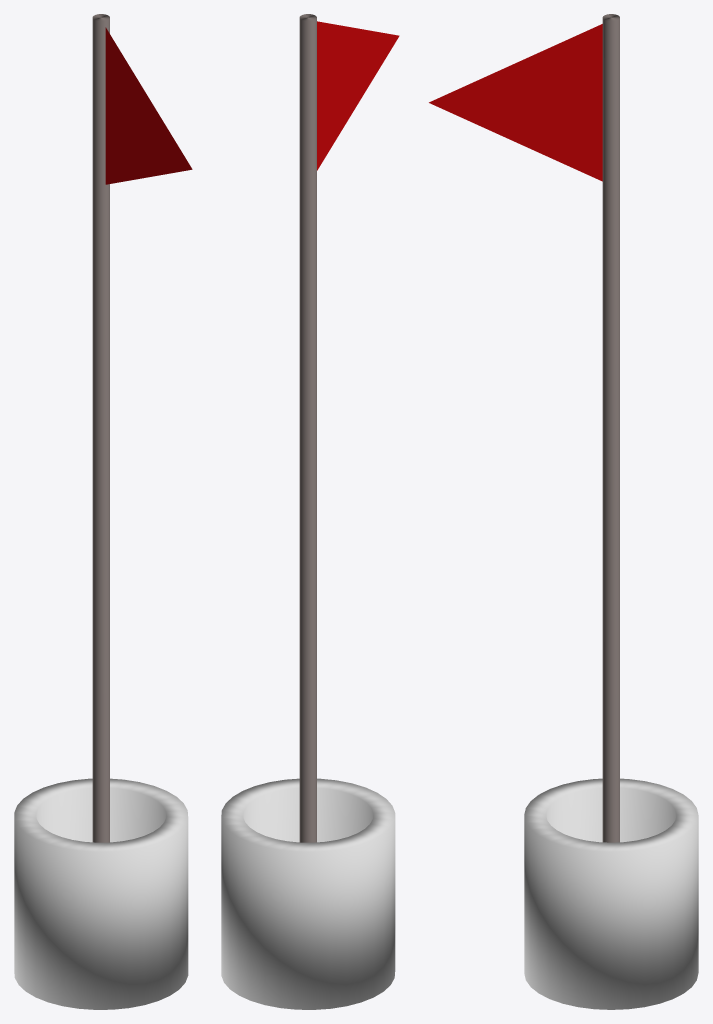
The model's file is golf hole.glb.
The picture shows the model from 3 angles, left to right: view 1: azimuth 30°, elevation 25°; view 2: azimuth 150°, elevation 25°; view 3: azimuth 270°, elevation 25°; orthographic projection.
Parts seen in each view (by area): view 1: Hole, Pole, Flag; view 2: Hole, Pole, Flag; view 3: Hole, Pole, Flag.
Boxes of the visible parts, bbox=[...] form: Hole: bbox=[14, 778, 188, 1009]; Pole: bbox=[92, 14, 109, 842]; Flag: bbox=[105, 27, 192, 184]; Hole: bbox=[221, 778, 395, 1009]; Pole: bbox=[299, 14, 316, 842]; Flag: bbox=[317, 21, 399, 170]; Hole: bbox=[524, 778, 698, 1009]; Pole: bbox=[602, 14, 619, 842]; Flag: bbox=[429, 24, 602, 181].
Size of the model in its own units: 2 by 12.09 by 3.1.
